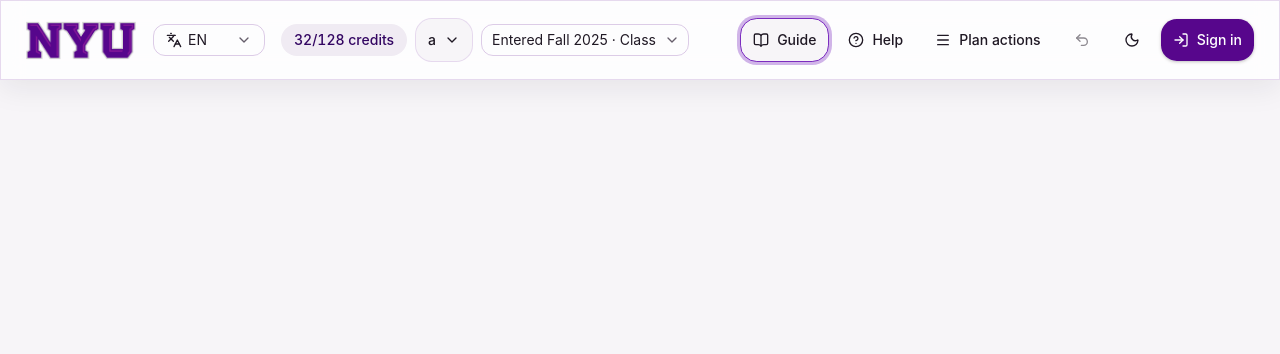
Test: PlannerHeader › keeps Guide visible while plan file actions stay in one menu
Press Enter
Click the button "Plan actions".
click(988, 40)  # box left=922, top=18, right=1054, bottom=62
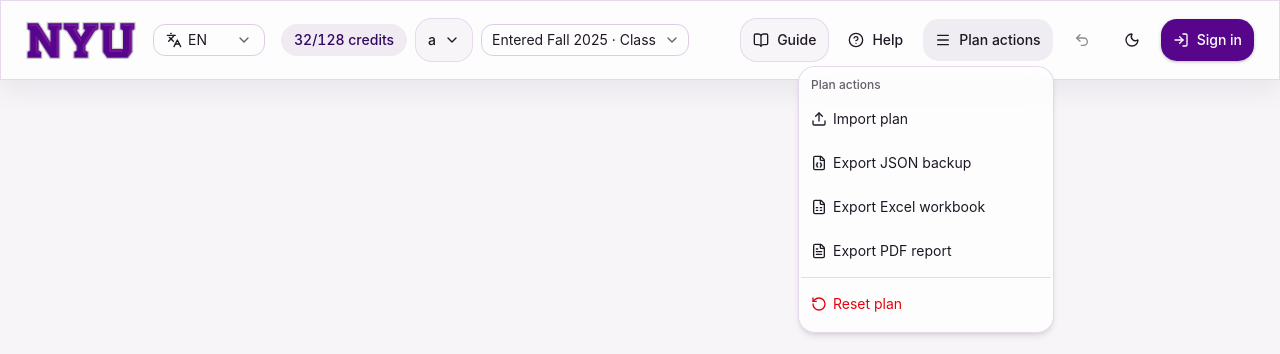
Now the menu item "Import plan" is shown, box left=811, top=110, right=908, bottom=127
Now the menu item "Export JSON backup" is shown, box left=811, top=154, right=971, bottom=171
Now the menu item "Export Excel workbook" is shown, box left=811, top=198, right=985, bottom=215
